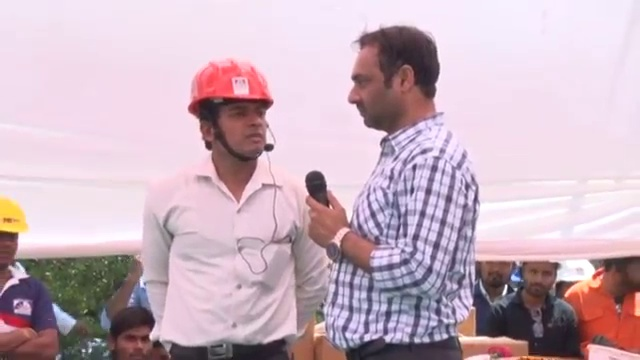helmet: (186, 53, 279, 117), (0, 194, 32, 234), (551, 258, 597, 283)
helmet_off: (349, 26, 446, 130), (102, 305, 158, 360), (519, 259, 564, 304), (598, 256, 640, 298), (480, 256, 513, 294)
helmet_on: (185, 55, 279, 177), (0, 192, 32, 273), (553, 257, 599, 301)
person: (308, 11, 490, 354), (140, 51, 330, 360), (0, 193, 59, 360), (486, 260, 579, 356), (565, 258, 640, 352), (469, 259, 518, 336)
